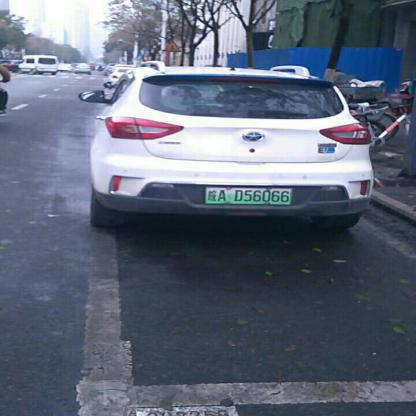lp: (204, 185, 292, 204)
